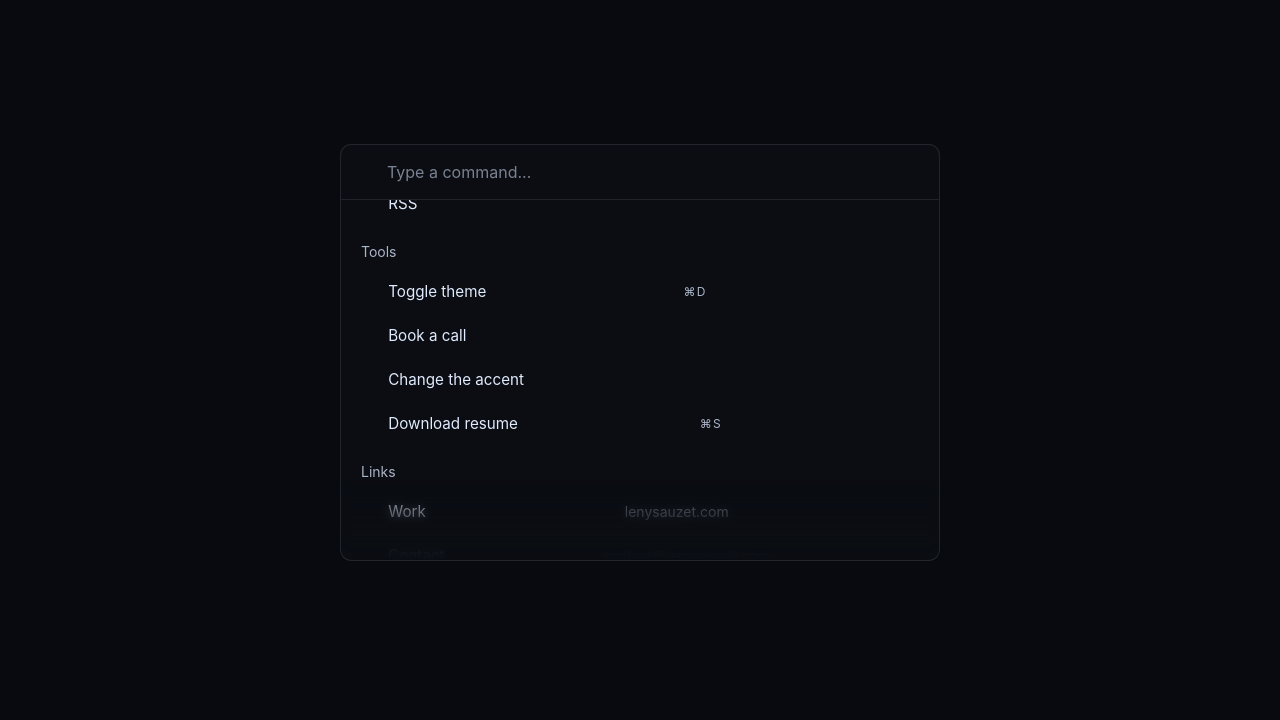
Scenario: CommandPalette › goes back when the hint is clicked, and hands the box its focus
(page scrolled)
Click the option "Change the accent": [456, 380] box x1=388 y1=370 x2=524 y2=389
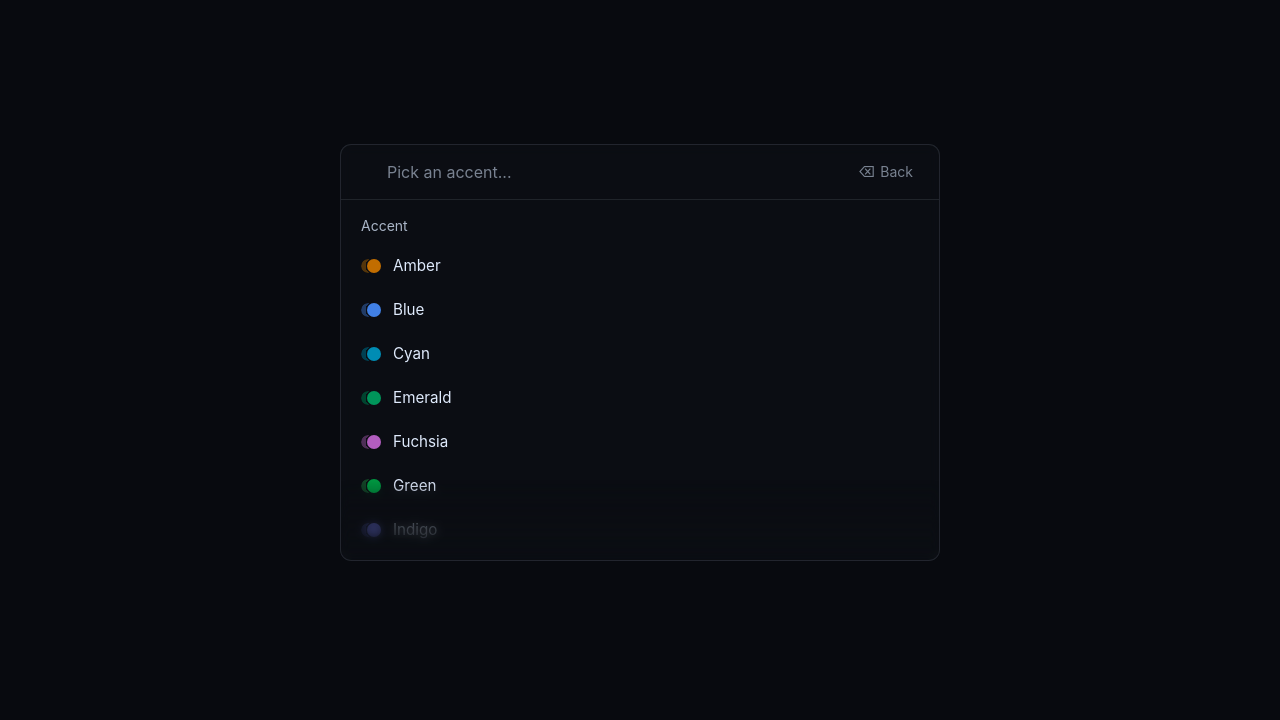
Click the button "⌫ Back": [885, 172] box x1=850 y1=158 x2=921 y2=186
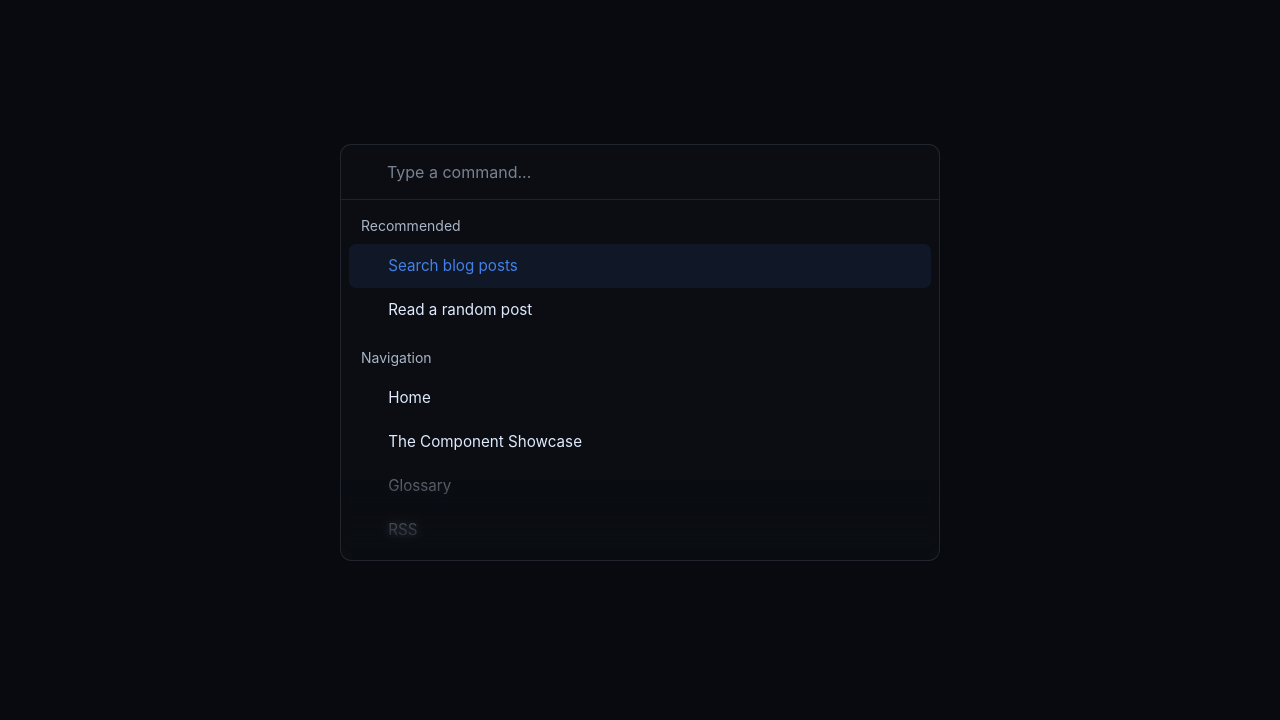
Expected: the dropdown with placeholder "Type a command..." is shown, x1=387 y1=160 x2=921 y2=184
